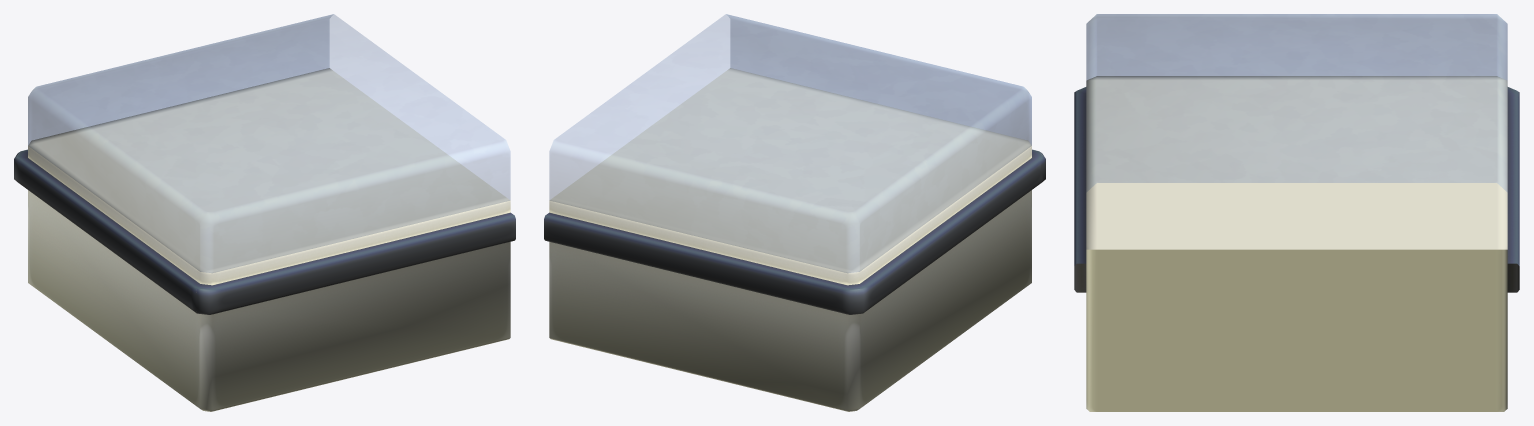
The model's file is Vitrine_modulaire_2_LP.fbx.
3 views of the same model, side by side, from view 1: azimuth 30°, elevation 25°; view 2: azimuth 150°, elevation 25°; view 3: azimuth 270°, elevation 25° (orthographic). The views are drawn at different scales.
Visible parts, largest first — view 1: Vitrine modulaire 2; view 2: Vitrine modulaire 2; view 3: Vitrine modulaire 2.
Part boxes in pixels (left/top/right/bottom): Vitrine modulaire 2: left=14, top=14, right=515, bottom=411; Vitrine modulaire 2: left=544, top=14, right=1045, bottom=411; Vitrine modulaire 2: left=1074, top=14, right=1519, bottom=411.
Bounding box in the file's own units: 100 × 60 × 106.
